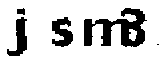3: (123, 6, 151, 48)
j: (3, 6, 32, 59)
m: (79, 16, 128, 50)
s: (50, 16, 74, 51)
